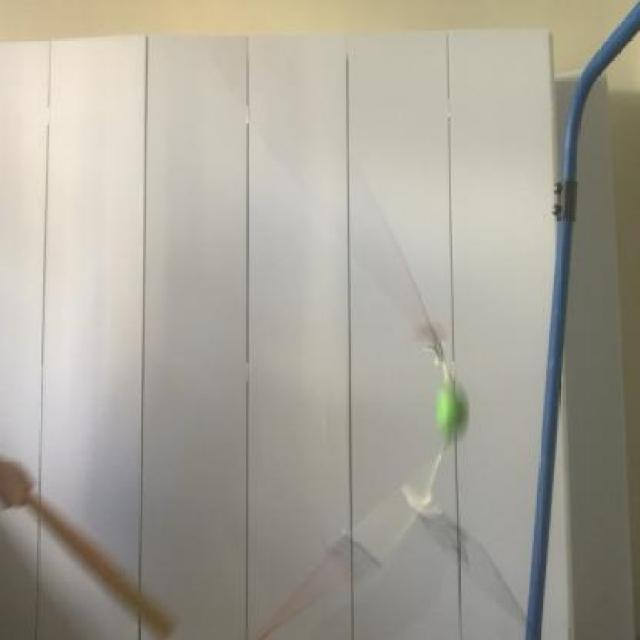baseball: (425, 376, 469, 452)
